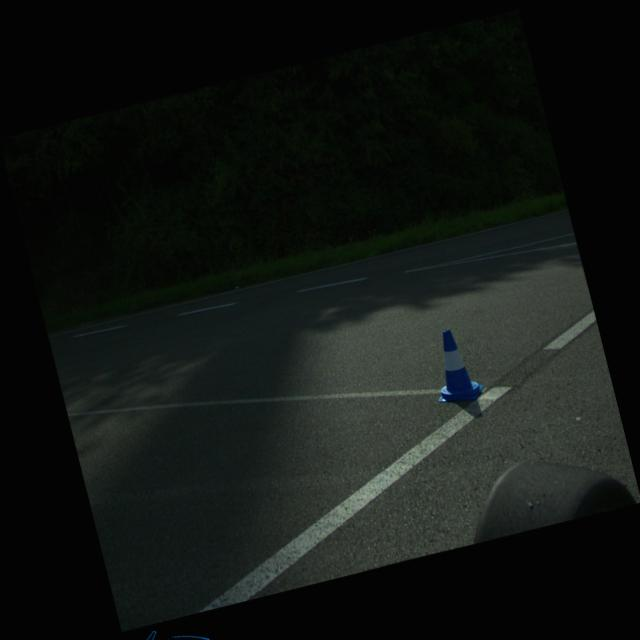blue_cone: (422, 324, 486, 407)
